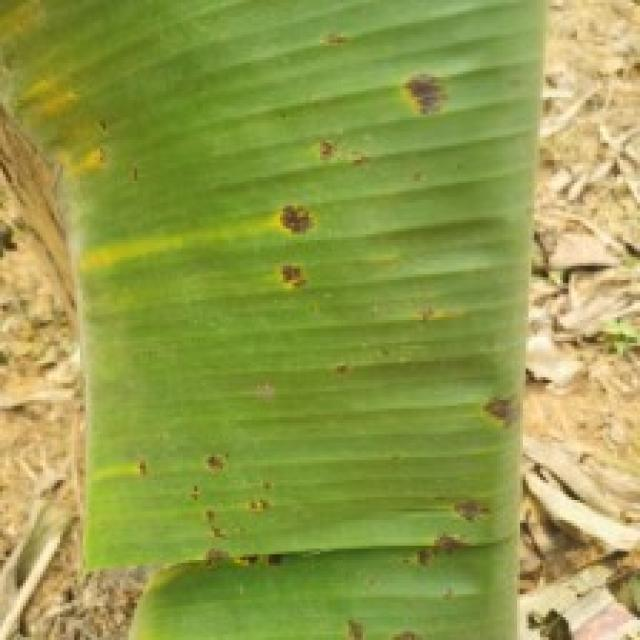Downey_mildrew: (3, 0, 573, 640)
